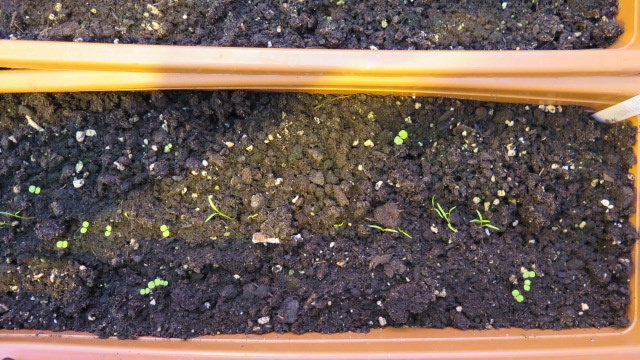crop: (203, 198, 235, 225), (438, 204, 460, 234), (368, 223, 398, 235), (427, 195, 442, 217), (468, 216, 492, 224)
weed: (389, 127, 410, 147), (25, 183, 44, 195), (158, 223, 173, 238), (52, 239, 71, 250), (101, 223, 113, 239), (78, 219, 90, 234), (521, 277, 533, 291), (512, 289, 524, 303), (148, 278, 159, 287), (158, 278, 169, 286), (139, 288, 149, 295)
